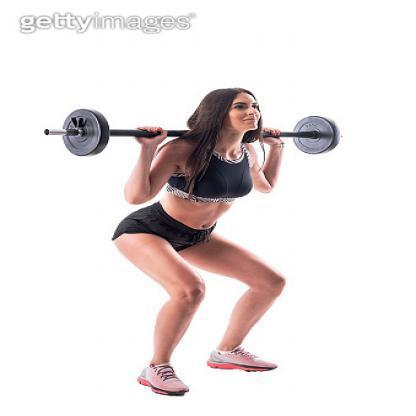Barbell: (40, 125, 55, 142)
